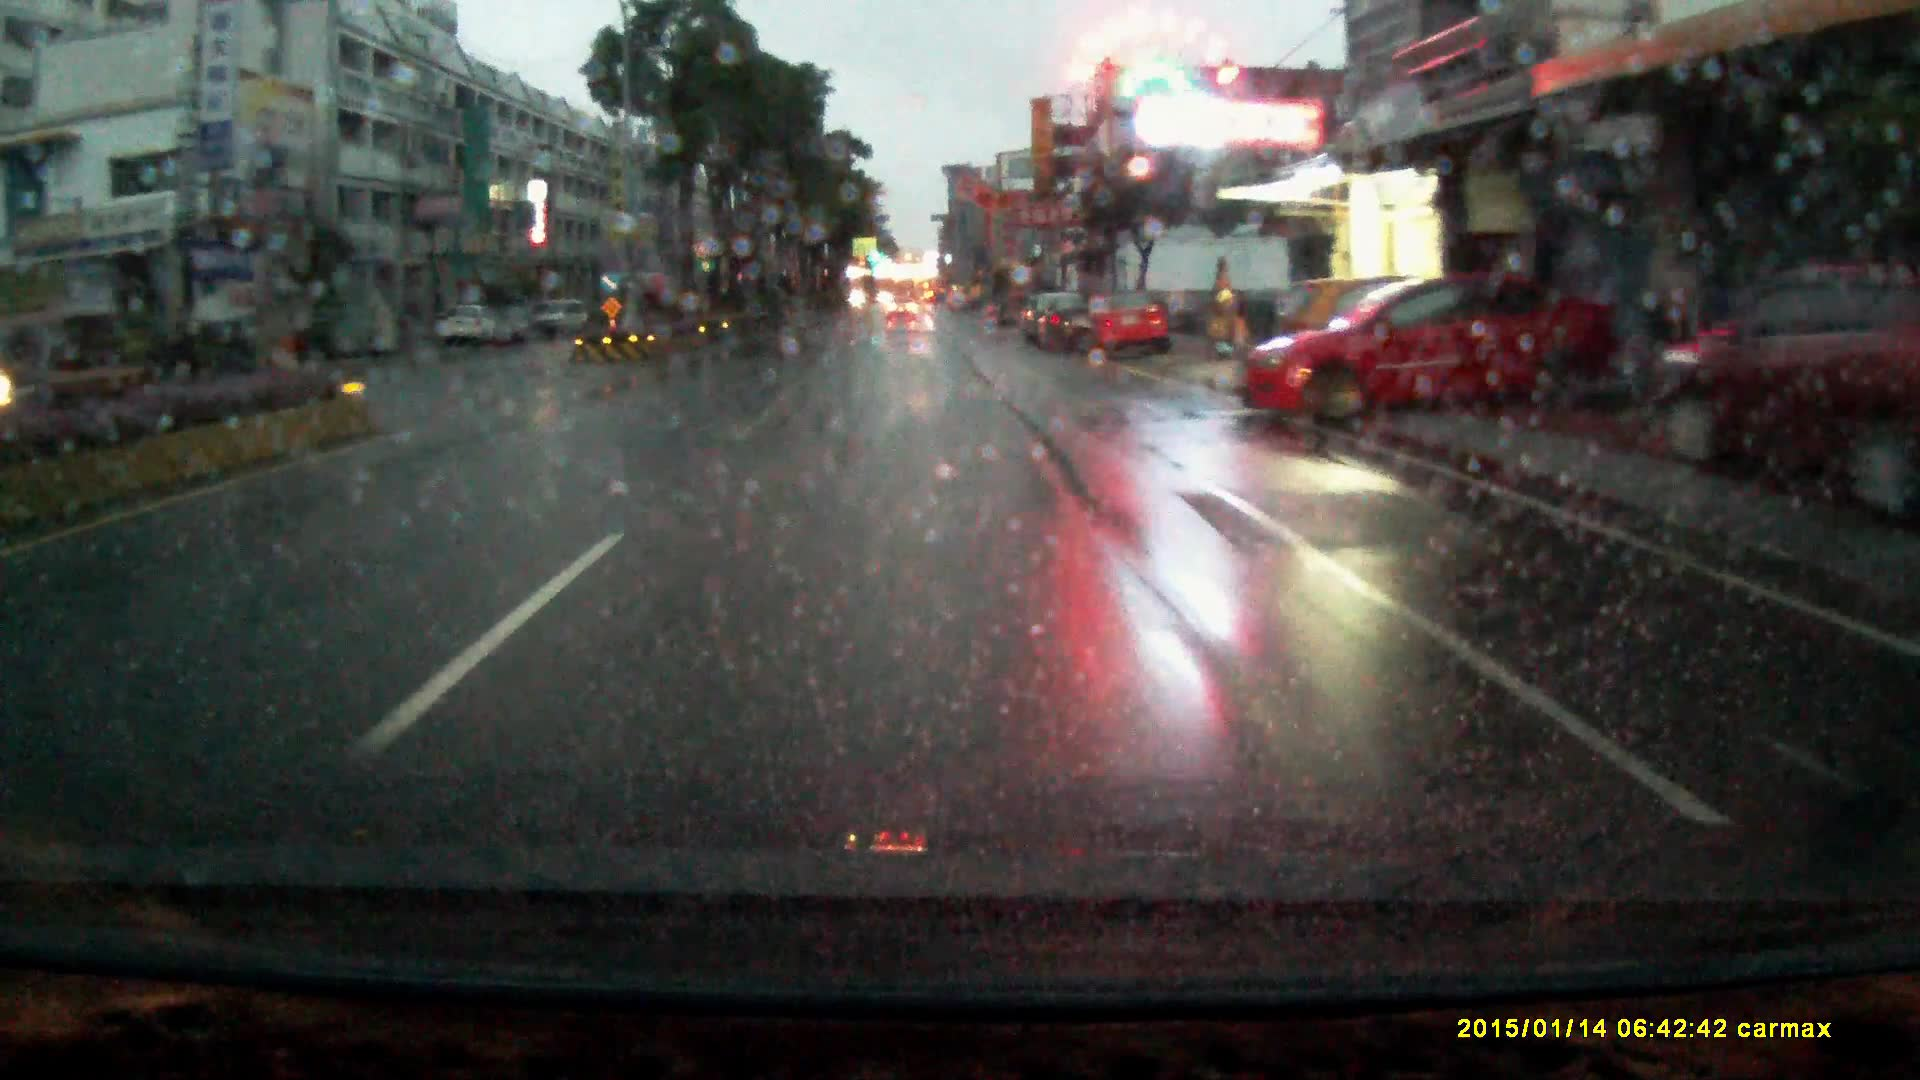vehicle: (1244, 272, 1633, 429), (1081, 291, 1176, 363), (1031, 293, 1098, 356), (442, 299, 498, 348), (533, 298, 592, 339), (886, 295, 918, 324)
